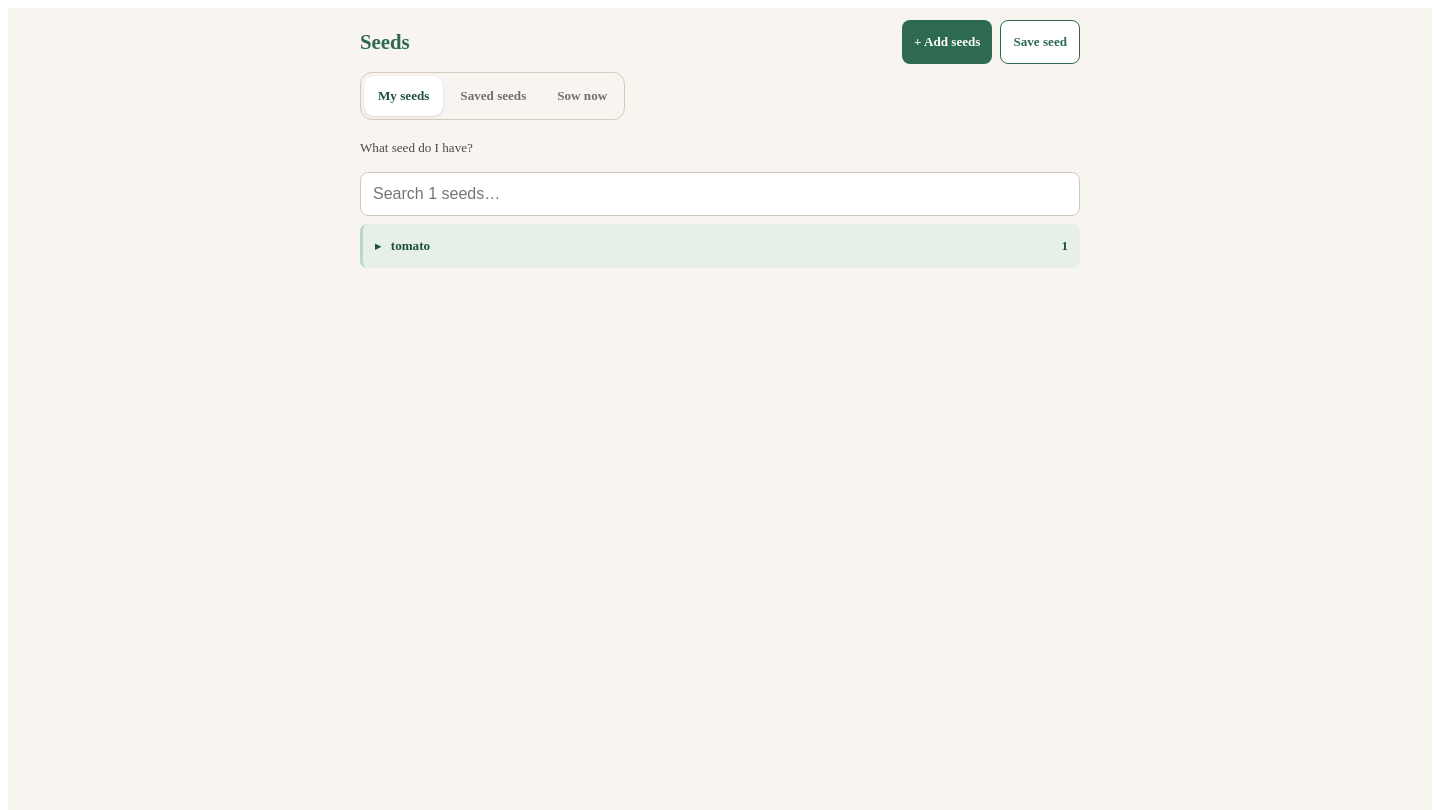
Test case: Seeds — header actions (fixed slot per view) › a save that lands AFTER the sheet was closed: the rows reload, the view does not change, the sheet stays closed
The width and height of the screenshot is (1440, 810).
Expected: the element with test id "my-seeds-view" is shown, x1=360 y1=126 x2=1080 y2=268
What coordinates should you click on to do the following:
click the button with test id "seeds-save-seed"
I would click on:
 (1040, 42)
Its box is x1=1000 y1=20 x2=1080 y2=64.
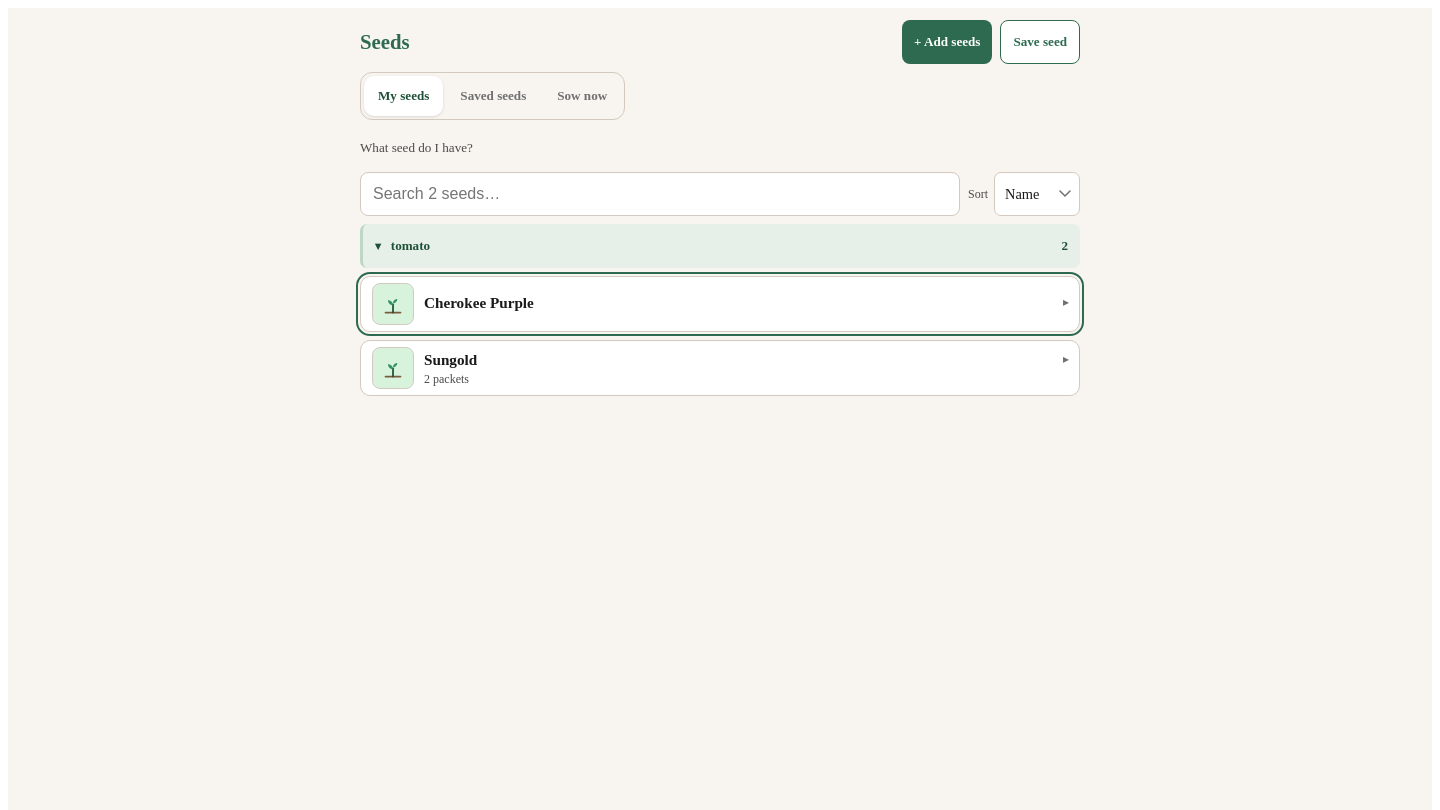
Now the element showing "Cherokee Purple ▸" is shown, box x1=360 y1=276 x2=1080 y2=332
